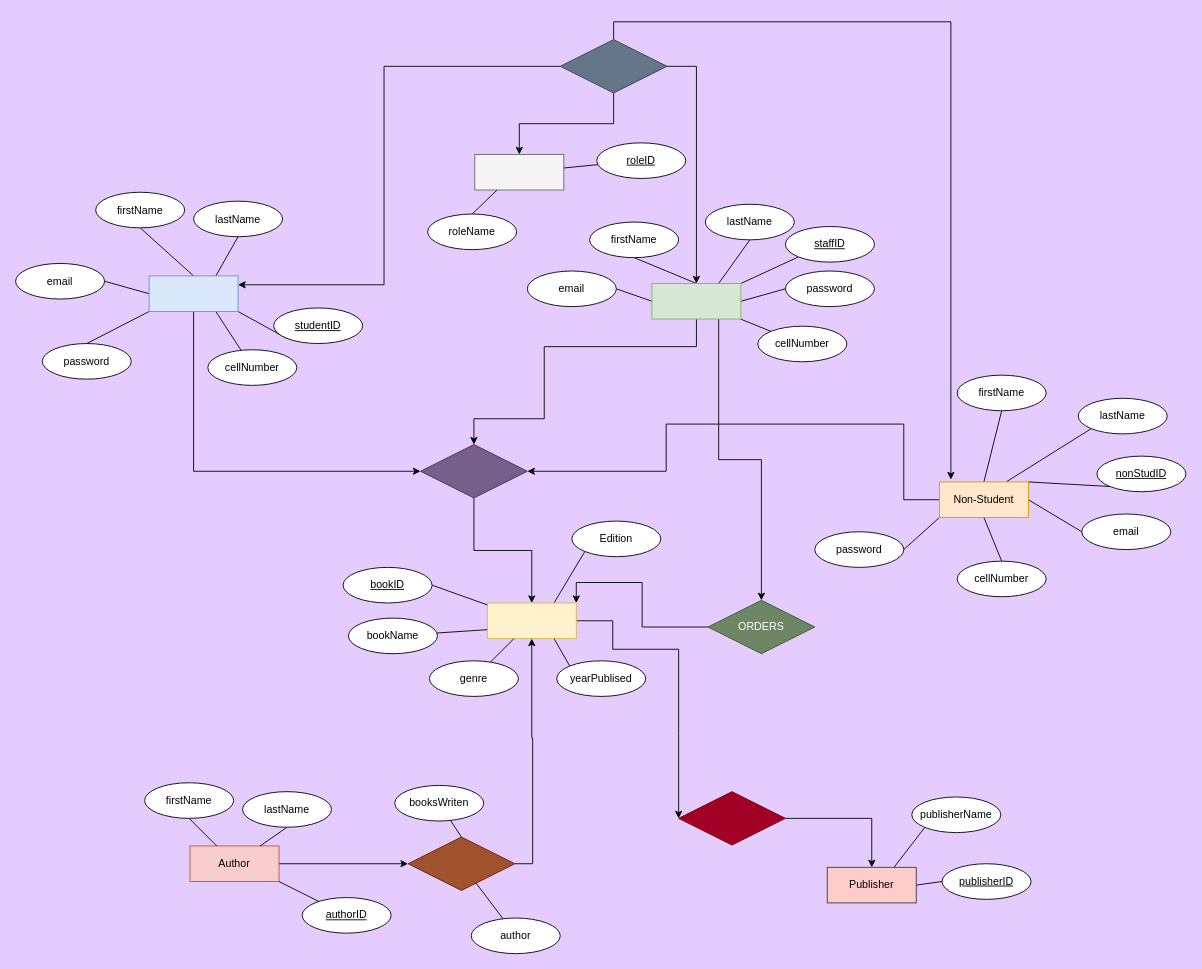
This 1202x969 diagram has some shape labels left out. Each missing label, with the centre of its shape:
"Book" belongs at [531,620].
"BORROWS" belongs at [473,471].
"Has A" belongs at [613,66].
"PUBLISHED" belongs at [731,818].
"Role" belongs at [519,172].
"Staff" belongs at [696,301].
"Student" belongs at [193,293].
"WRITES" belongs at [461,863].
